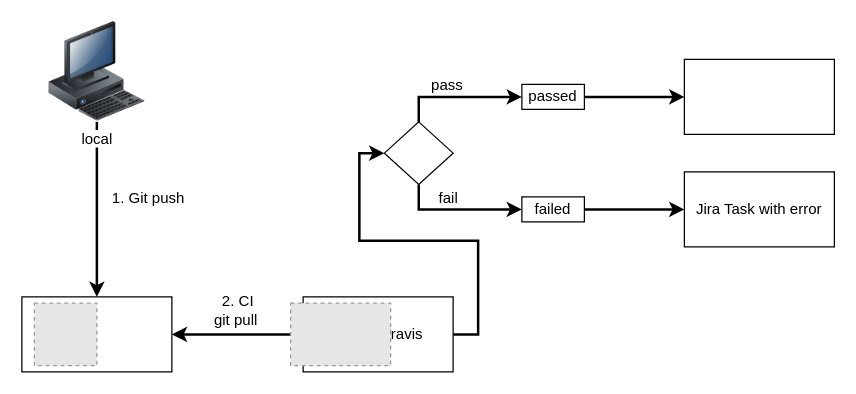
Some shapes in this 856 by 394 pixel diagram are drawn without their labels. Grey dashed boxes stand in for pictures. The box of each missing label's shape, as (x1, y1, x2, y2) in pixels:
build: (383, 121, 453, 184)
Git release: (683, 58, 834, 134)
GitHub: (21, 296, 172, 372)
